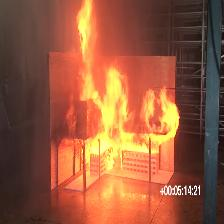fire: (67, 0, 180, 171)
